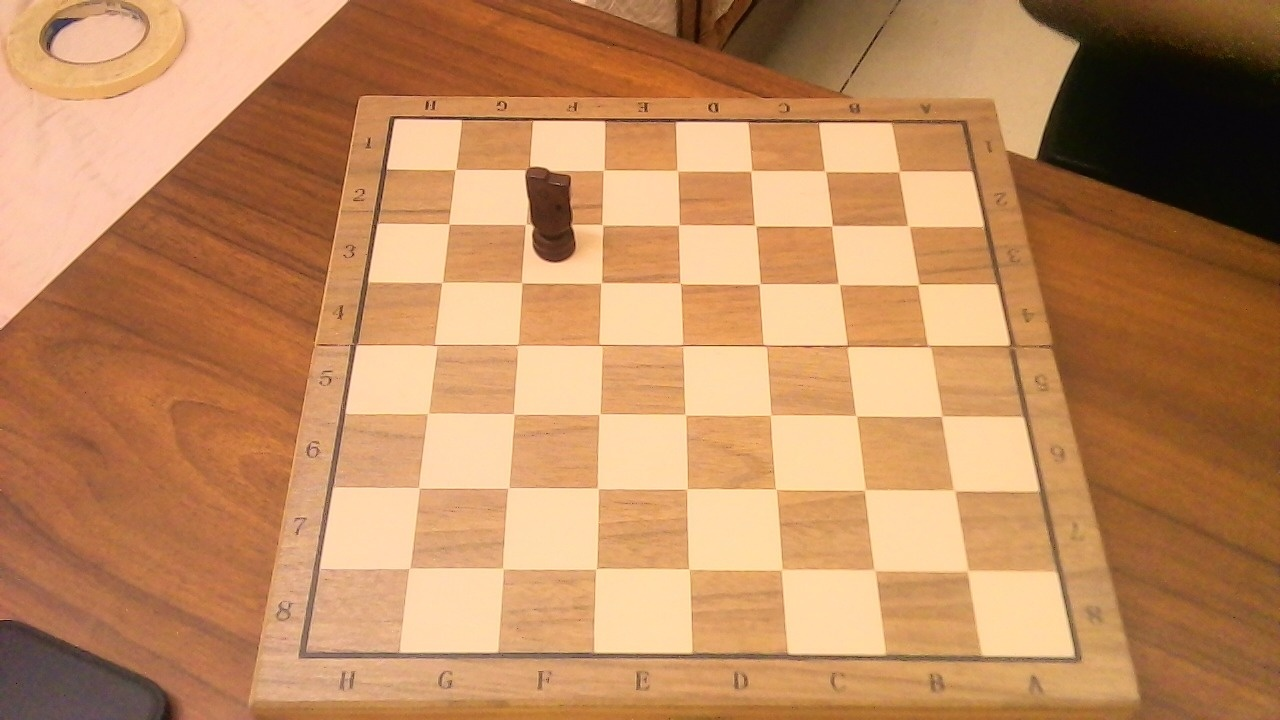n: (523, 153, 592, 267)
